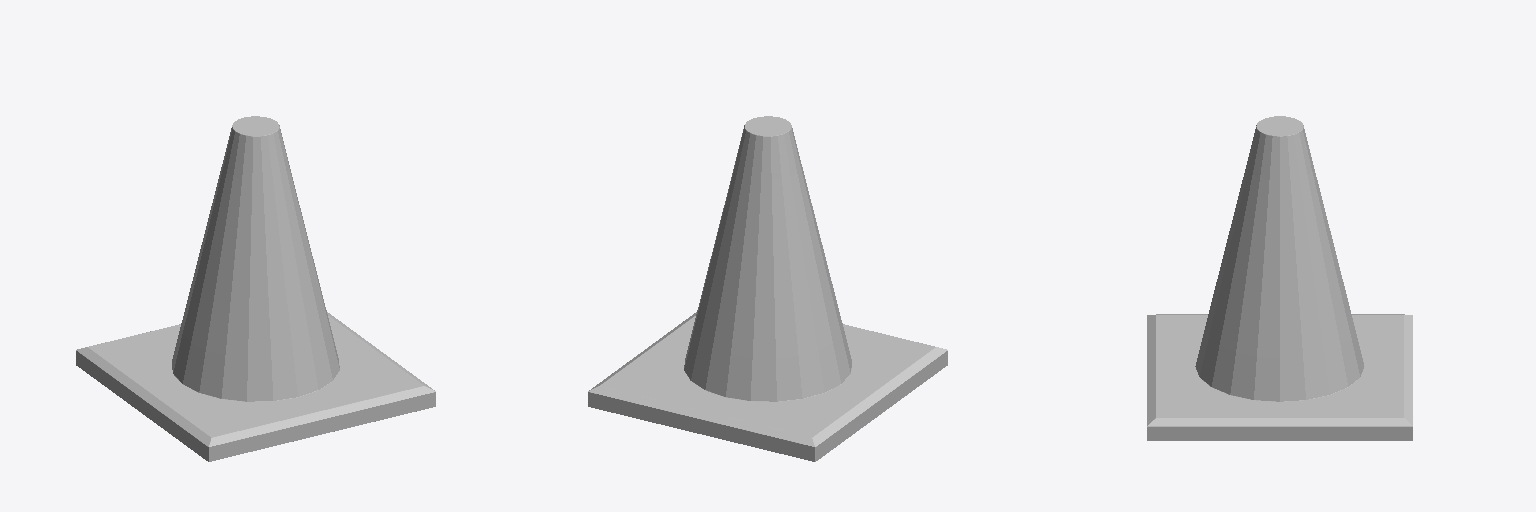
The model's file is cone_scale.obj.
3 renders of one model, left to right at view 1: azimuth 30°, elevation 25°; view 2: azimuth 150°, elevation 25°; view 3: azimuth 270°, elevation 25°, orthographic.
Visible parts, largest first — view 1: pCylinder1, pCube1; view 2: pCylinder1, pCube1; view 3: pCylinder1, pCube1.
Part boxes in pixels (x1,y1,x2,y2): pCylinder1: (172,116,339,401); pCube1: (76,312,435,461); pCylinder1: (684,116,851,401); pCube1: (588,312,947,461); pCylinder1: (1195,116,1364,401); pCube1: (1147,314,1412,440).
Size of the model in its own units: 1.8 by 1.96 by 1.82.